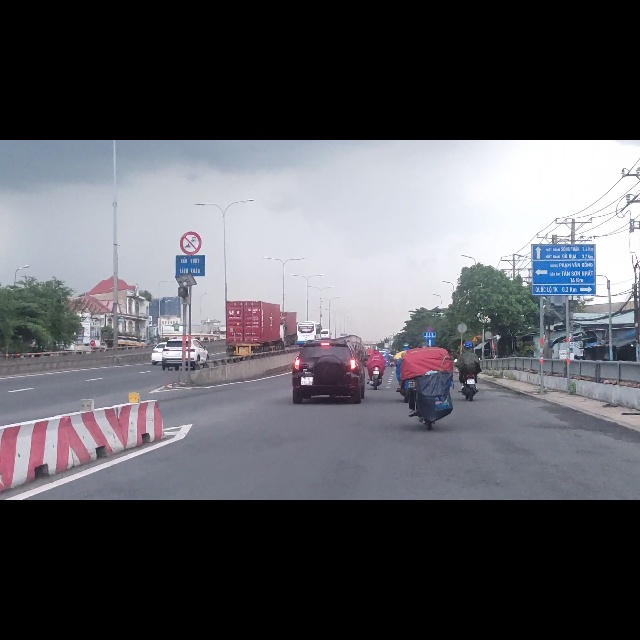bien_nguy_hiem: (180, 163, 202, 204), (426, 354, 434, 366), (90, 356, 95, 366)
